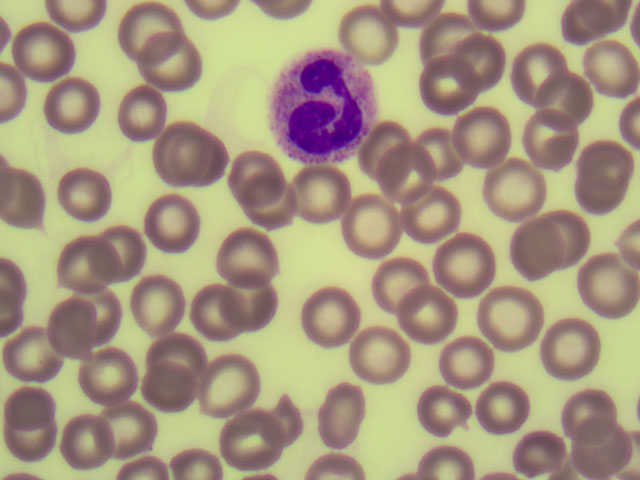RBC: (510, 424, 573, 480), (14, 24, 77, 79), (146, 36, 209, 91), (40, 71, 103, 126), (107, 83, 170, 138), (138, 123, 201, 178), (168, 130, 231, 185), (57, 168, 120, 223), (42, 240, 105, 295), (104, 224, 167, 279), (147, 194, 210, 249), (208, 222, 271, 277), (224, 274, 287, 329), (190, 286, 253, 341), (122, 272, 185, 327), (77, 290, 140, 345), (46, 293, 109, 348), (10, 324, 73, 379), (1, 375, 64, 430), (4, 405, 67, 460), (50, 414, 113, 469), (96, 406, 159, 461), (71, 349, 134, 404), (138, 365, 201, 420), (148, 321, 211, 376), (199, 354, 262, 409), (221, 405, 284, 460), (314, 390, 377, 445), (342, 333, 405, 388), (300, 289, 363, 344), (373, 253, 436, 308), (403, 288, 466, 343), (432, 235, 495, 290), (404, 190, 467, 245), (373, 146, 436, 201), (364, 120, 427, 175), (291, 166, 354, 221), (252, 190, 315, 245), (223, 146, 286, 201), (344, 200, 407, 255), (486, 166, 549, 221), (455, 117, 518, 172), (415, 115, 478, 170), (420, 61, 483, 116), (443, 35, 506, 90), (423, 10, 486, 65), (341, 7, 404, 62), (512, 37, 575, 92), (533, 61, 596, 116), (518, 124, 581, 179), (568, 131, 631, 186), (571, 164, 634, 219), (538, 214, 601, 269), (506, 225, 569, 280), (577, 255, 640, 310), (477, 286, 540, 341), (538, 321, 601, 376), (430, 329, 493, 384), (414, 377, 477, 432), (470, 375, 533, 430), (548, 384, 611, 439), (572, 423, 635, 478), (577, 33, 640, 88), (1, 174, 63, 229), (113, 1, 176, 55)
WBC: (268, 50, 383, 160)
